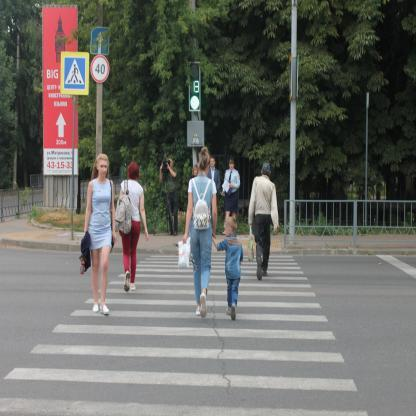obstructed_road_sign: (91, 27, 109, 55)
road_sign: (60, 51, 89, 95), (91, 54, 110, 84)
traffic light: (187, 62, 201, 112)
